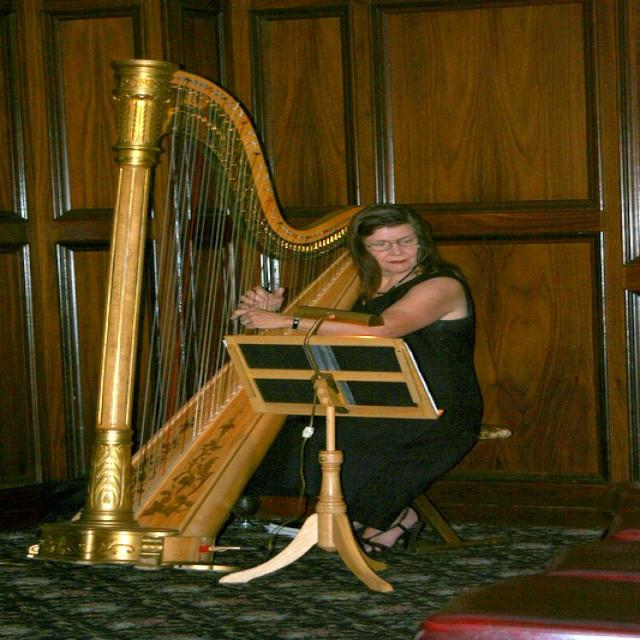harp: (23, 59, 384, 569)
